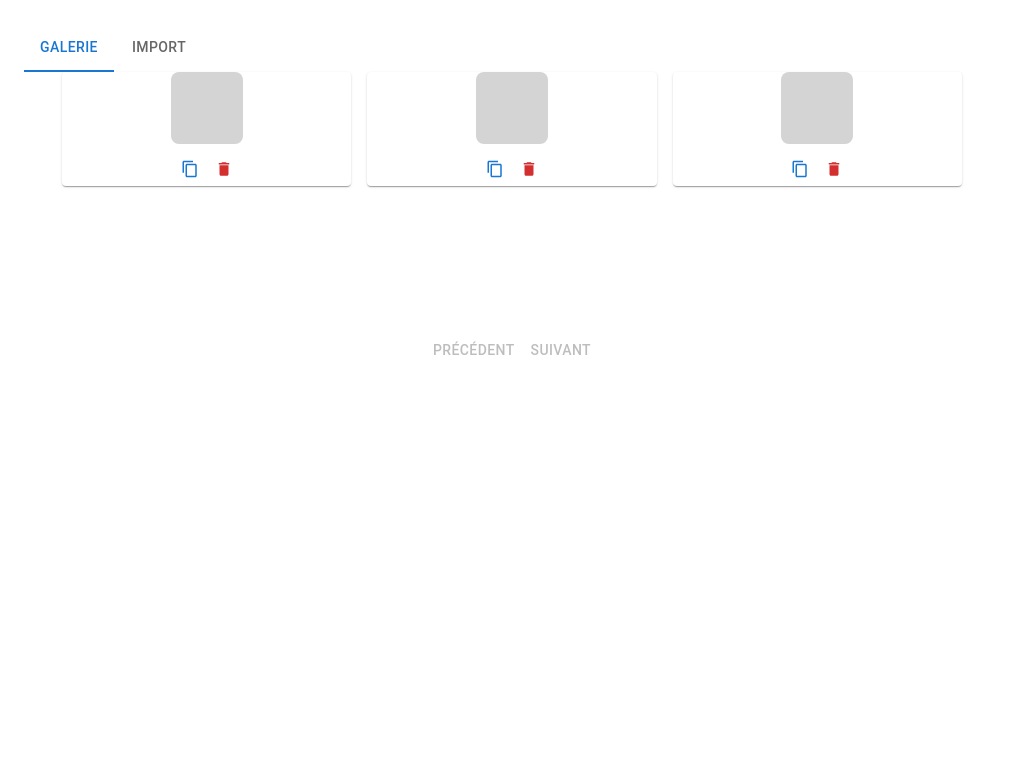
ImageGallery › should show an error message when no file is selected
Click the tab "Import": (159, 48) 114,24 -> 204,72
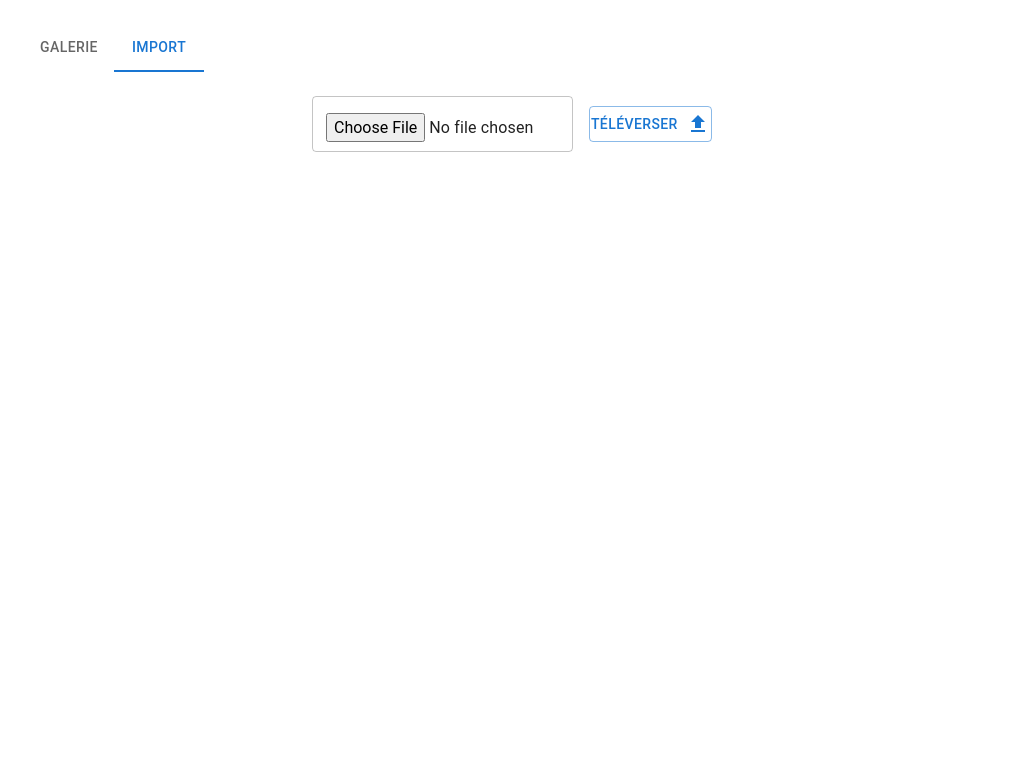
Click the button "Téléverser": (650, 124) 589,106 -> 712,142
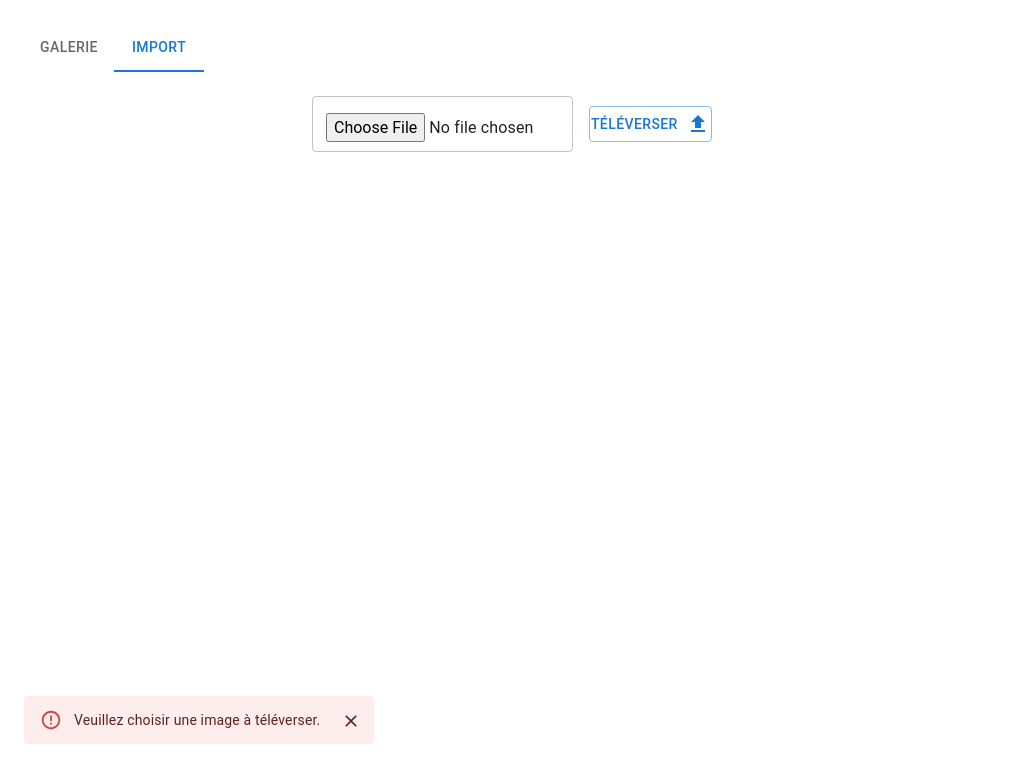
Now the text "Veuillez choisir une image à téléverser." is shown, box 74,712 -> 320,728
